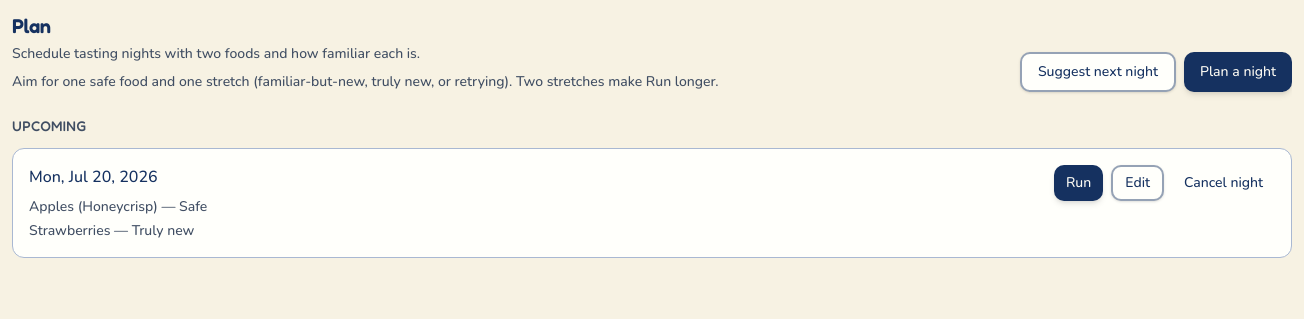
Scenario: PlanPage › blocks early-run when today already has a completed night
The width and height of the screenshot is (1304, 319).
Expected: the list item "Apples (Honeycrisp) — Safe" is shown, x1=29 y1=197 x2=207 y2=217
Click the button "Run".
click(1079, 183)  # box x1=1054 y1=165 x2=1103 y2=201
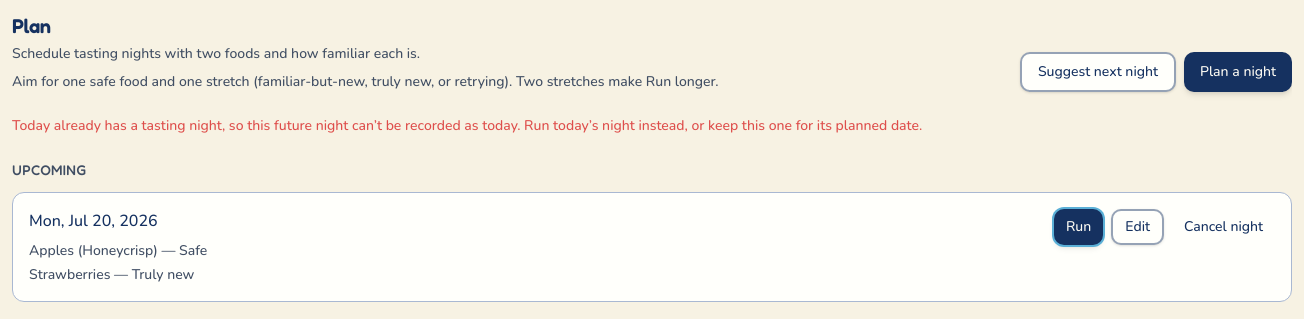
Now the message shows "Today already has a tasting night", box x1=12 y1=116 x2=922 y2=135
